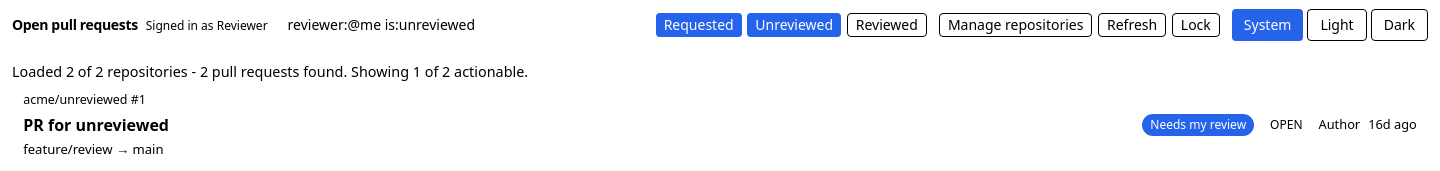
Test: InboxScreen › switches between reviewed and unreviewed rows through the review-state controls
Expected: the text "PR for unreviewed" is shown, [23,112,169,136]
Expected: the text "PR for reviewed" is not shown
Click the button "Reviewed" at (887, 24), box [847,12,927,36]
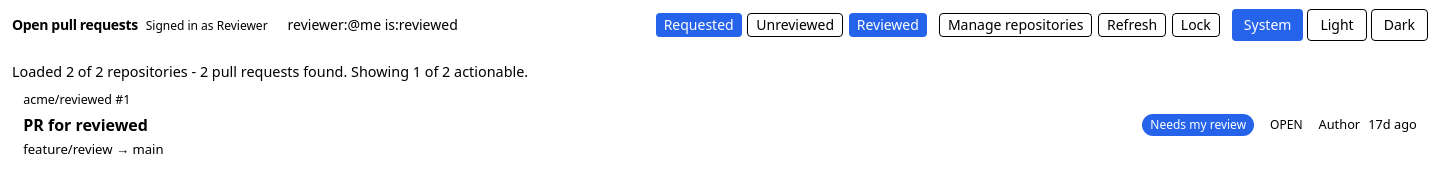
Expected: the search field holds "reviewer:@me is:reviewed", [280,13,644,37]
Expected: the button "PR for unreviewed" is gone
Expected: the text "PR for reviewed" is shown, [23,112,164,136]
Click the button "Unreviewed" at (795, 24), box [747,12,843,36]
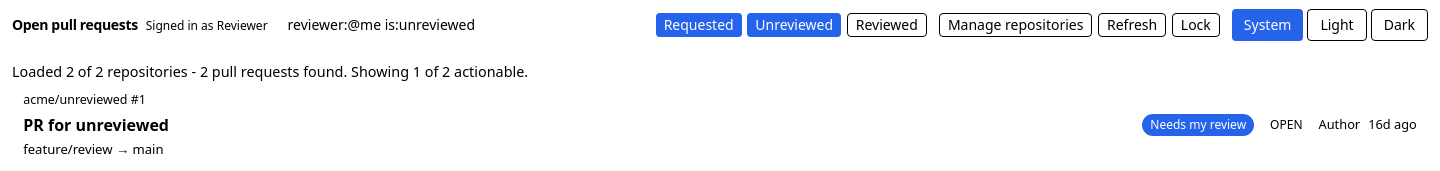
Expected: the search field holds "reviewer:@me is:unreviewed", [280,13,644,37]
Expected: the text "PR for unreviewed" is shown, [23,112,169,136]
Expected: the button "PR for reviewed" is gone
